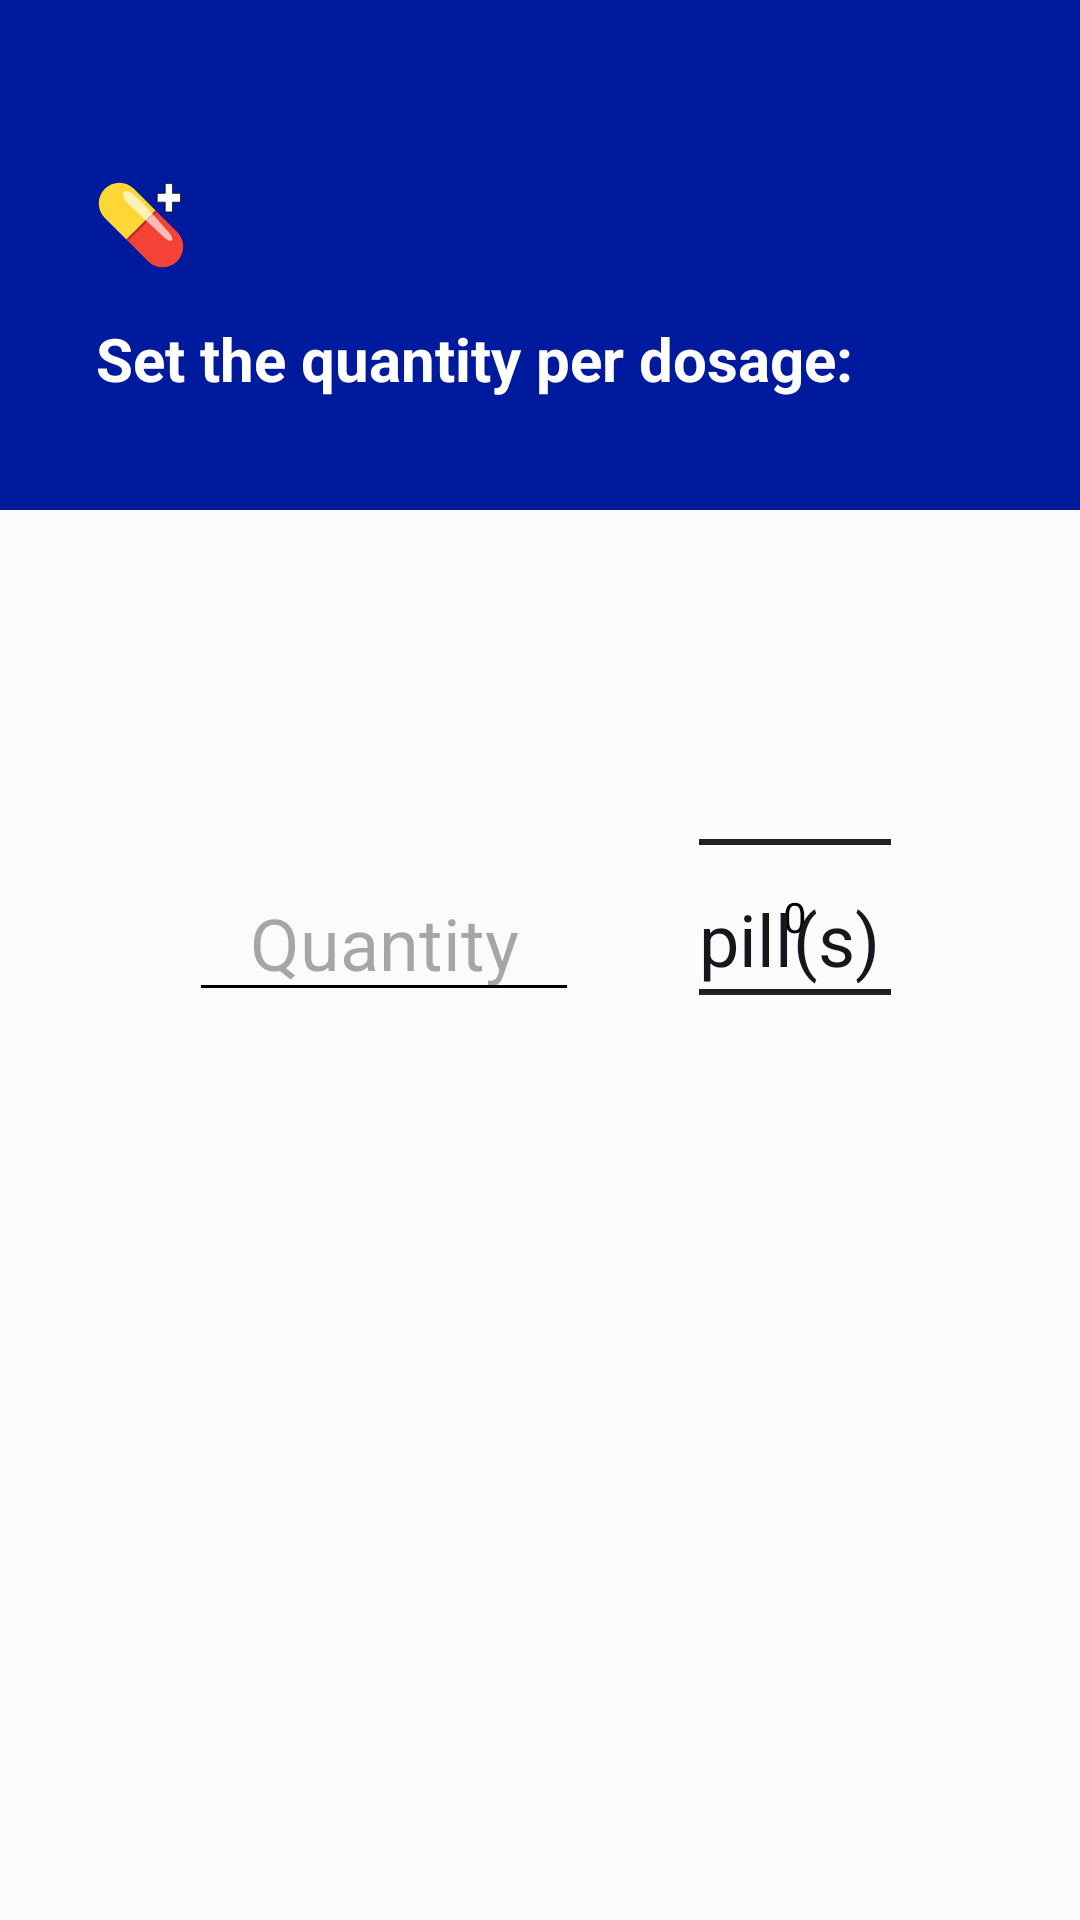

Screen size 1080*1920. Icon name, then its box in pixels as (left=x1, top=y1, right=x2, bottom=y2):
pill add: (left=98, top=182, right=184, bottom=268)
